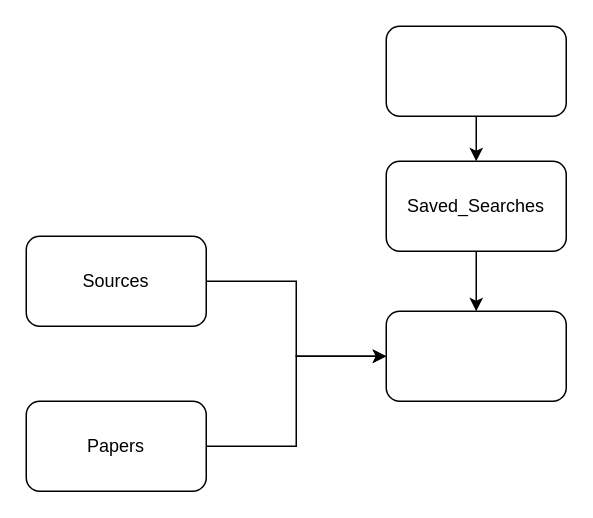
Some shapes in this 593 by 518 pixel diagram are drawn without their labels. Each missing label, with the centre of its shape:
Records: pixel 475 355
User: pixel 475 70
